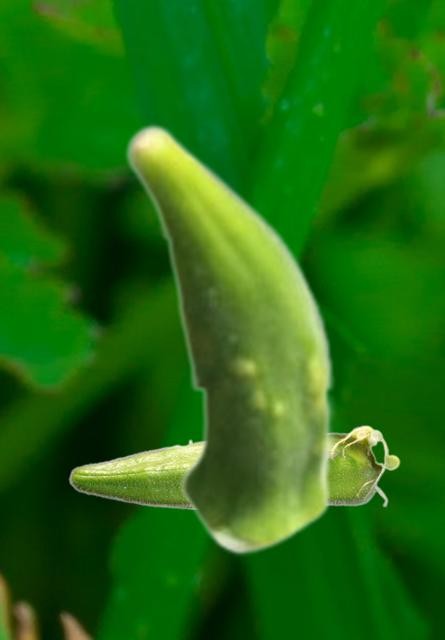okra: (123, 122, 337, 555), (68, 424, 399, 509)
